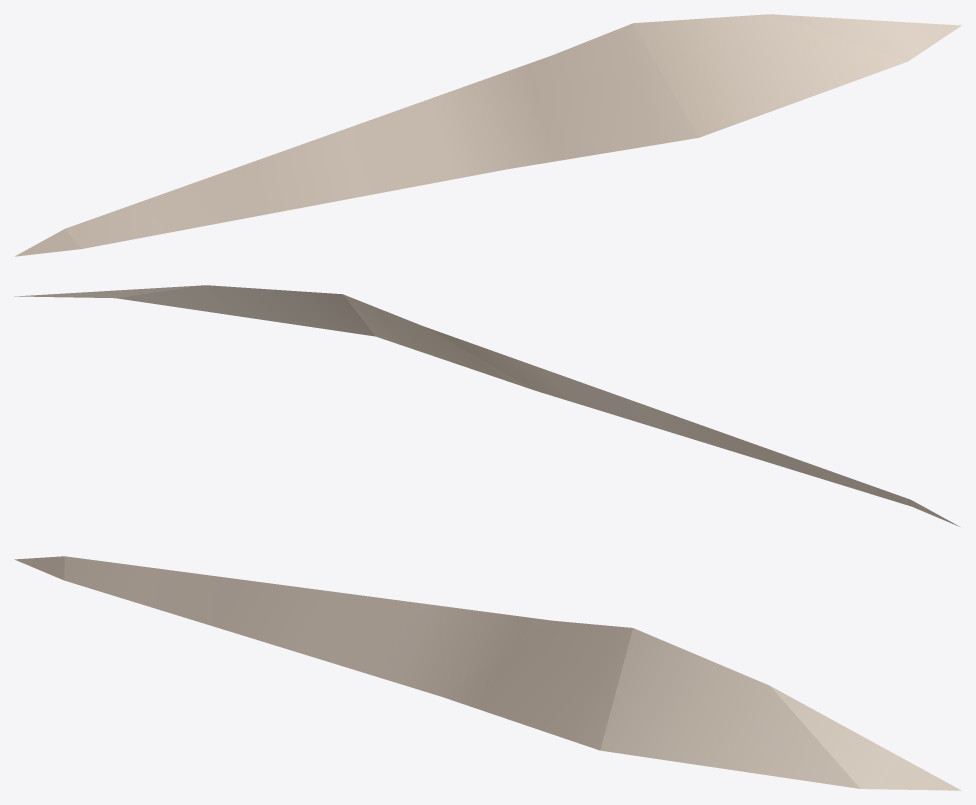
3 renders of one model, top to bottom at view 1: azimuth 30°, elevation 25°; view 2: azimuth 150°, elevation 25°; view 3: azimuth 330°, elevation 25°, orthographic.
Size of the model in its own units: 0.0326 by 0.00271 by 0.00294.
Materials: 1 (1 with a texture image).
